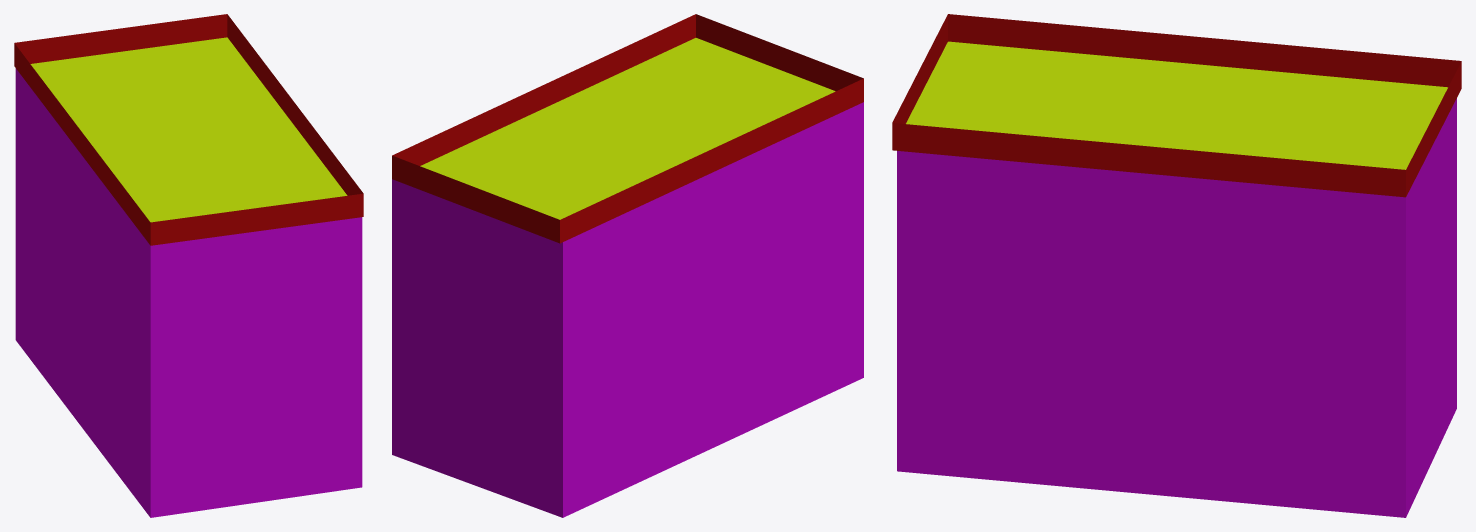
File: ssv_84.glb
3 renders of one model, left to right at view 1: azimuth 30°, elevation 25°; view 2: azimuth 150°, elevation 25°; view 3: azimuth 270°, elevation 25°, orthographic. The views are drawn at different scales.
Visible parts, largest first — view 1: ssv_84; view 2: ssv_84; view 3: ssv_84.
Boxes of the visible parts, left/top/right/bottom form: ssv_84: left=14, top=14, right=363, bottom=517; ssv_84: left=392, top=14, right=863, bottom=517; ssv_84: left=892, top=14, right=1461, bottom=517.
Size of the model in its own units: 4.26 by 4.43 by 6.57.
